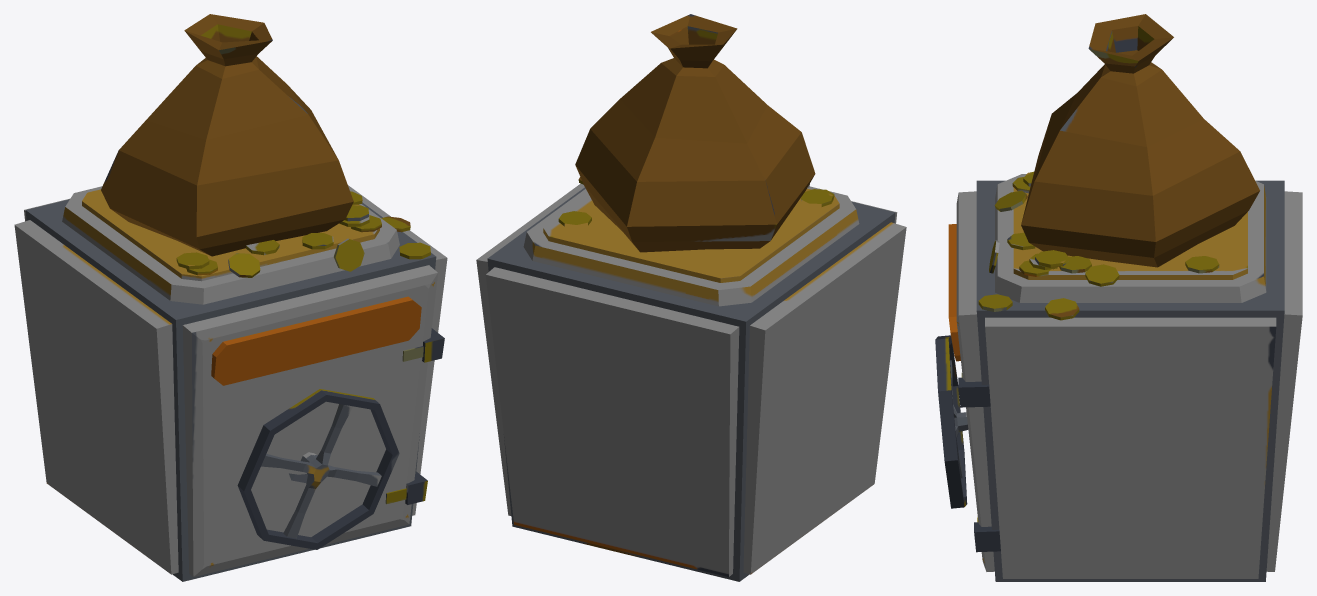
File: yinhang.fbx
3 renders of one model, left to right at view 1: azimuth 30°, elevation 25°; view 2: azimuth 150°, elevation 25°; view 3: azimuth 270°, elevation 25°, orthographic. The views are drawn at different scales.
Parts seen in each view (by area): view 1: Cube.003; view 2: Cube.003; view 3: Cube.003.
Part boxes in pixels (box(x1,y1,x2,y2)): Cube.003: box(14, 14, 447, 581); Cube.003: box(476, 14, 906, 581); Cube.003: box(935, 14, 1302, 581).
Bounding box in the file's own units: 220 × 346 × 235.
Materials: 1 (1 with a texture image).
